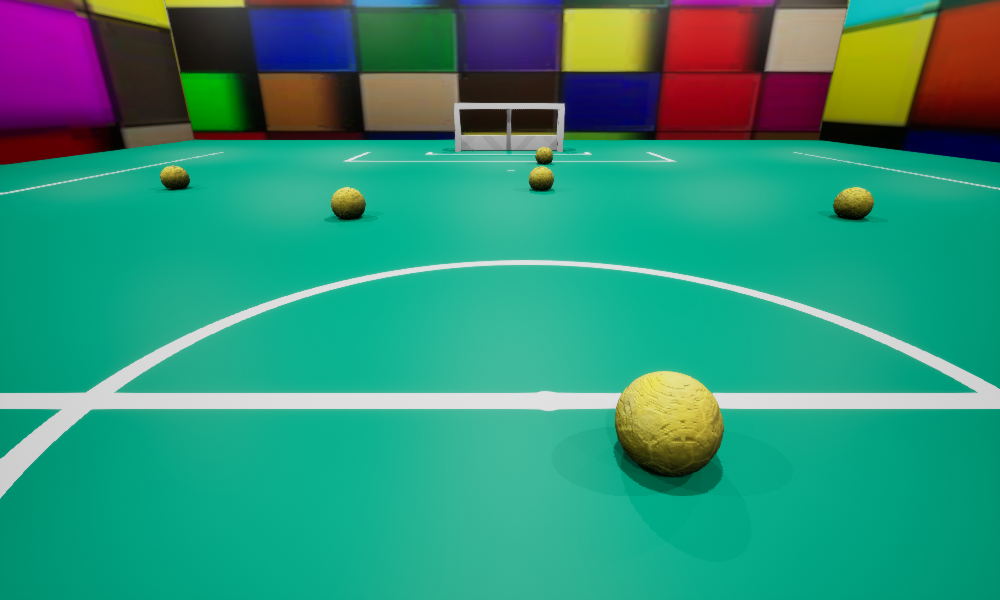b: (615, 371, 723, 475), (833, 187, 873, 218), (331, 187, 365, 218), (160, 165, 189, 188), (529, 166, 553, 190), (535, 147, 552, 163)
g: (454, 103, 564, 151)
